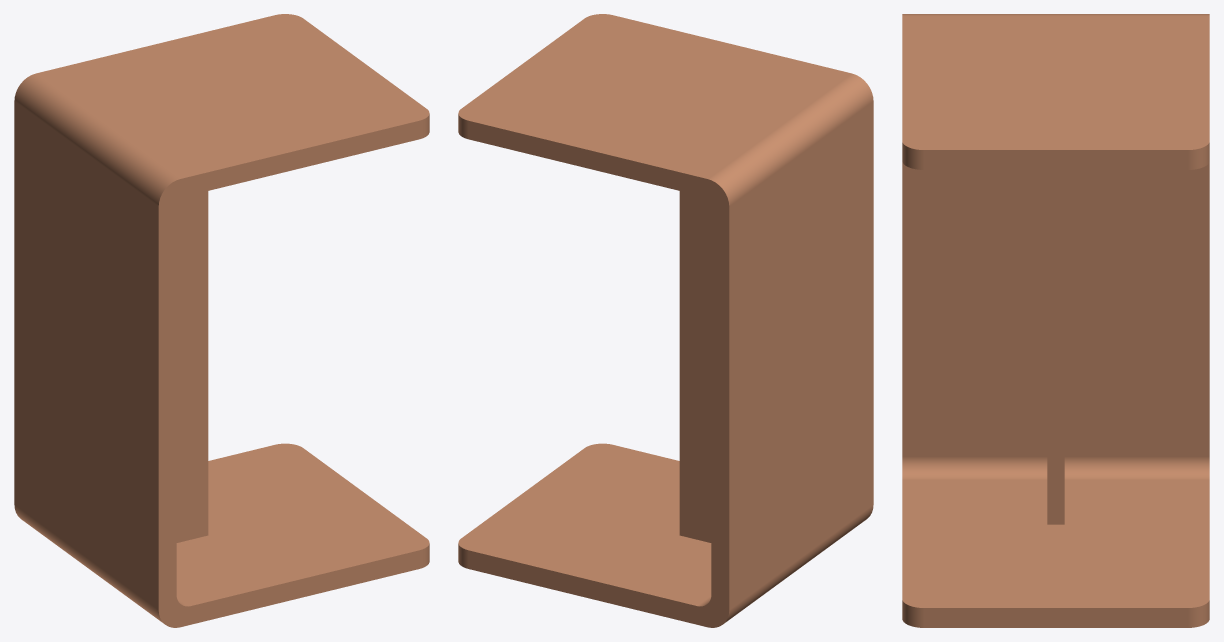
File: 480_サイドテーブル.glb
3 views of the same model, side by side, from view 1: azimuth 30°, elevation 25°; view 2: azimuth 150°, elevation 25°; view 3: azimuth 270°, elevation 25° (orthographic). The views are drawn at different scales.
Parts seen in each view (by area): view 1: Body; view 2: Body; view 3: Body.
Part boxes in pixels (x1=…): Body: x1=14, y1=14, x2=429, y2=627; Body: x1=458, y1=14, x2=873, y2=627; Body: x1=902, y1=14, x2=1209, y2=627.
Size of the model in its own units: 0.39 by 0.6 by 0.35.
